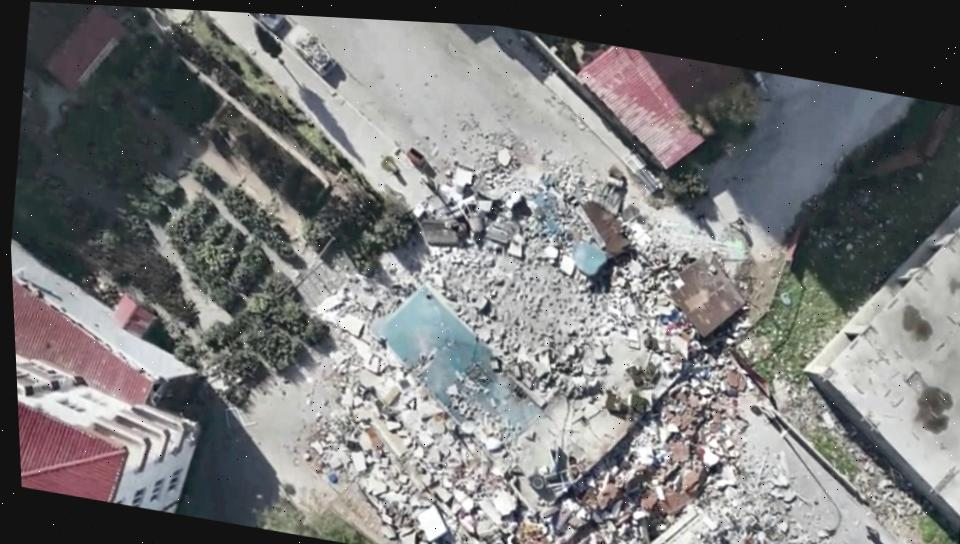kapali: (403, 56, 903, 544)
